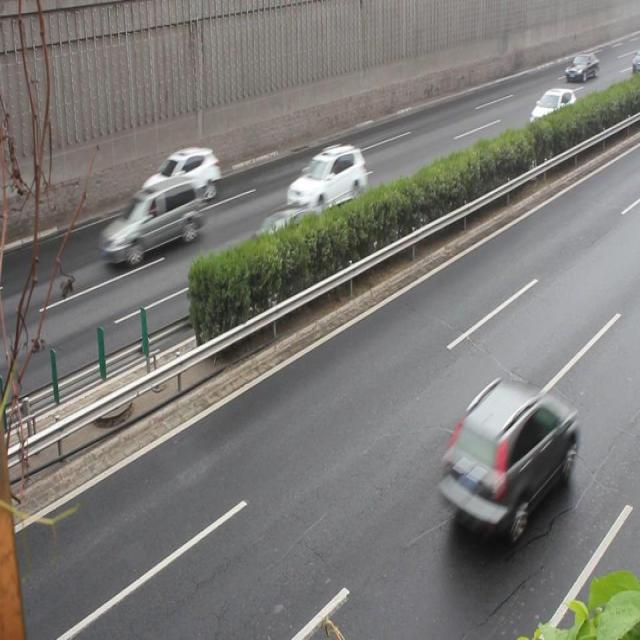car: (438, 378, 579, 539), (235, 204, 320, 280), (286, 142, 365, 214), (141, 145, 220, 208), (526, 89, 577, 137)
truck: (100, 176, 201, 266)
